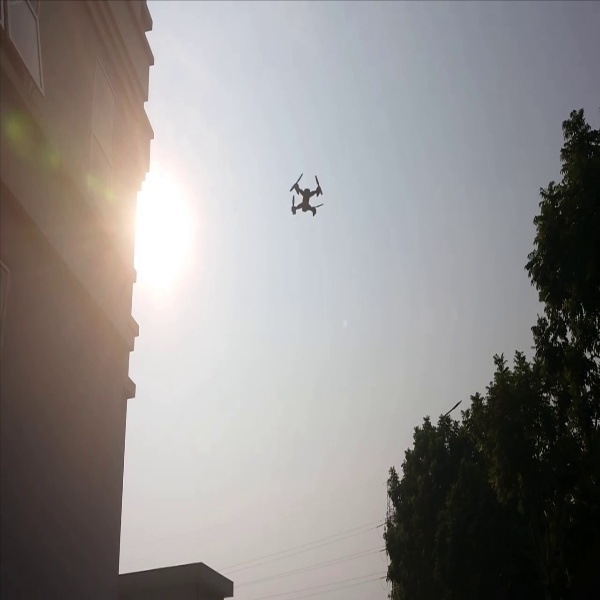drone: (280, 167, 330, 229)
